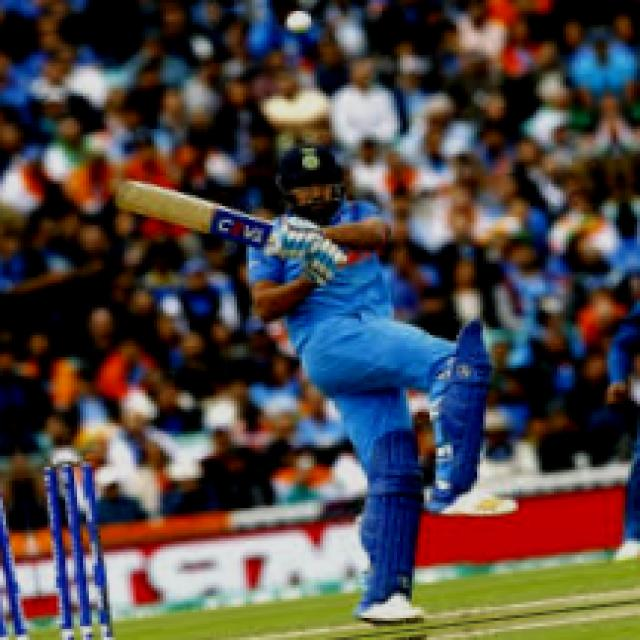toe: (110, 183, 156, 212)
